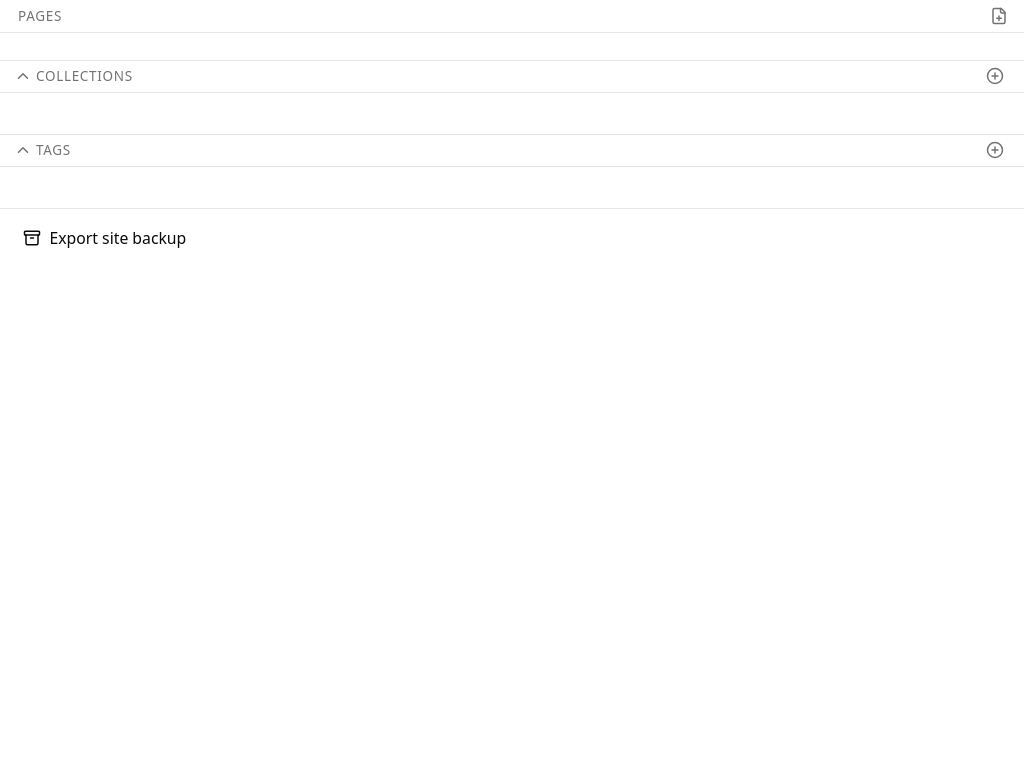
Test: LeftSidebar export backup gate › warns about exported credentials for a protected site on desktop
Click the button "Export site backup": (118, 238) [9,218,1015,258]
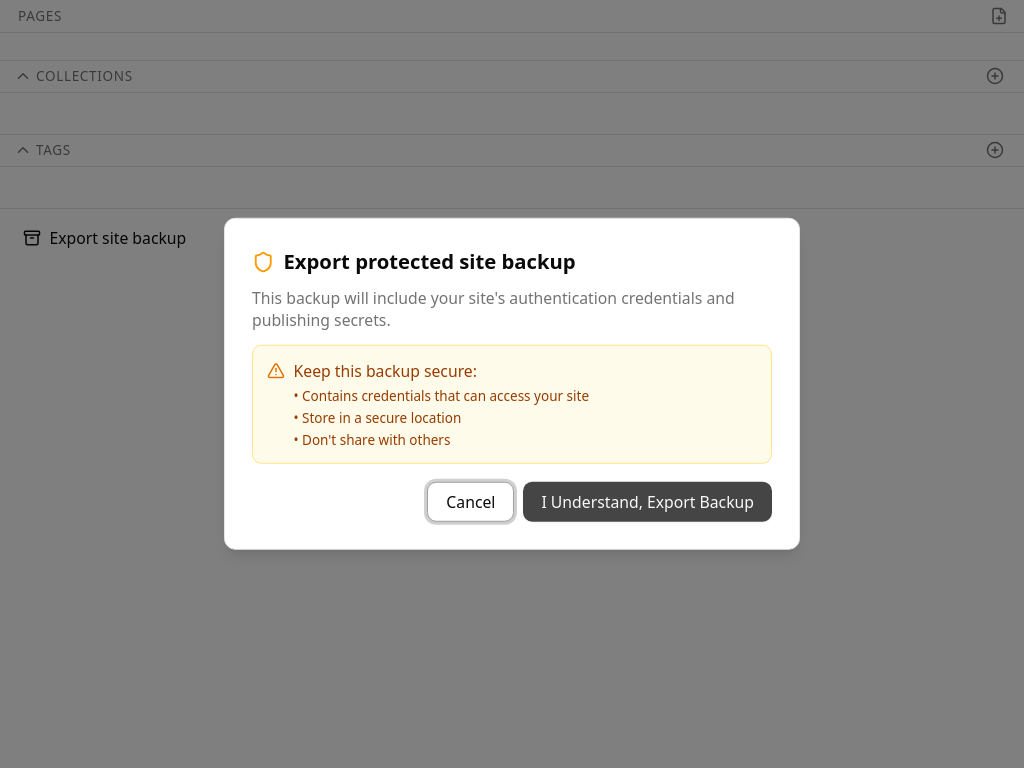
Now the text "This backup will include your site's authentication credentials" is shown, box [252,286,735,331]
Now the text "Keep this backup secure:" is shown, box [294,359,477,381]
